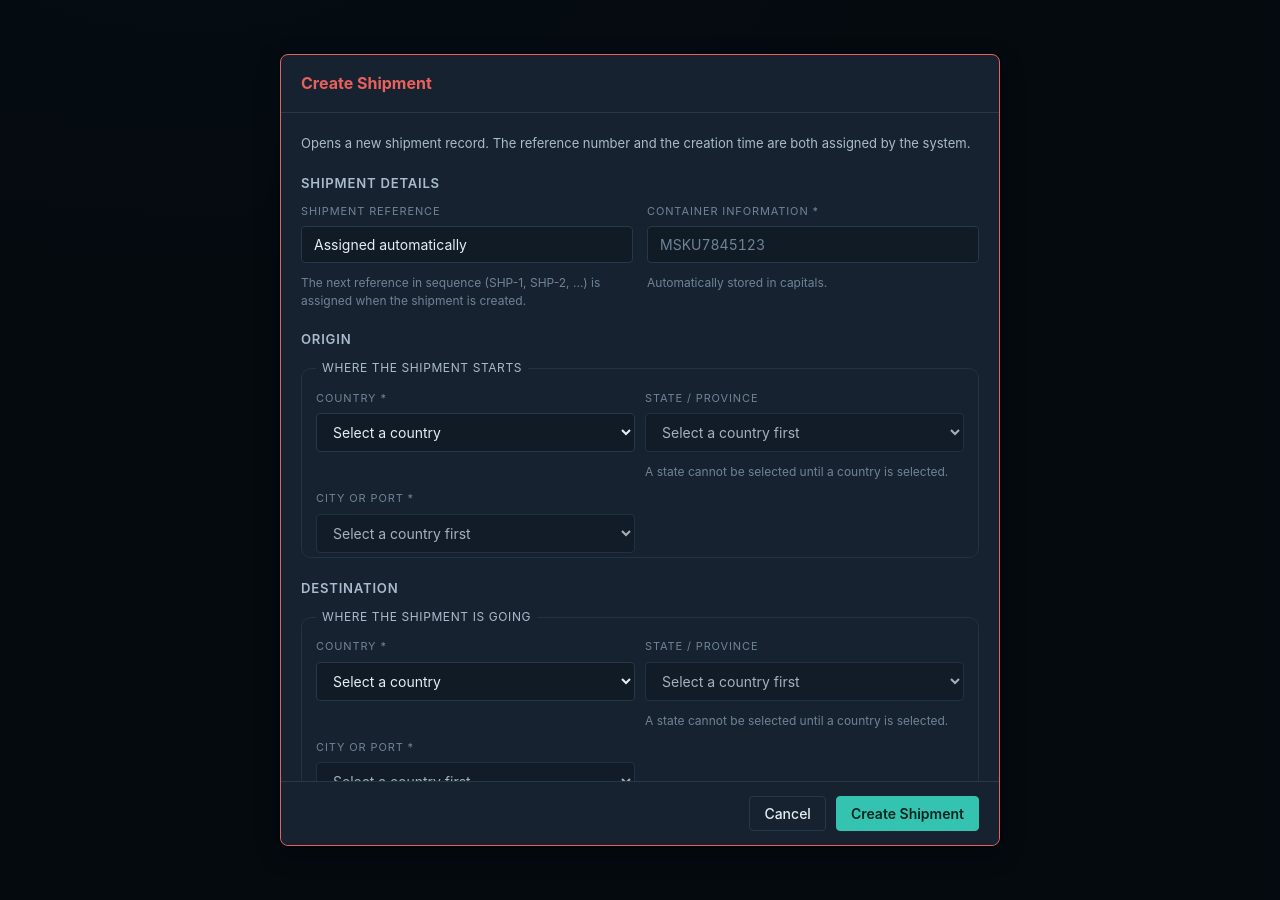
country and state selection › choosing a country enables the state list and offers only its subdivisions
Select "India" in the dropdown with id "origin-country" at (476, 433), box [316,413,635,452]
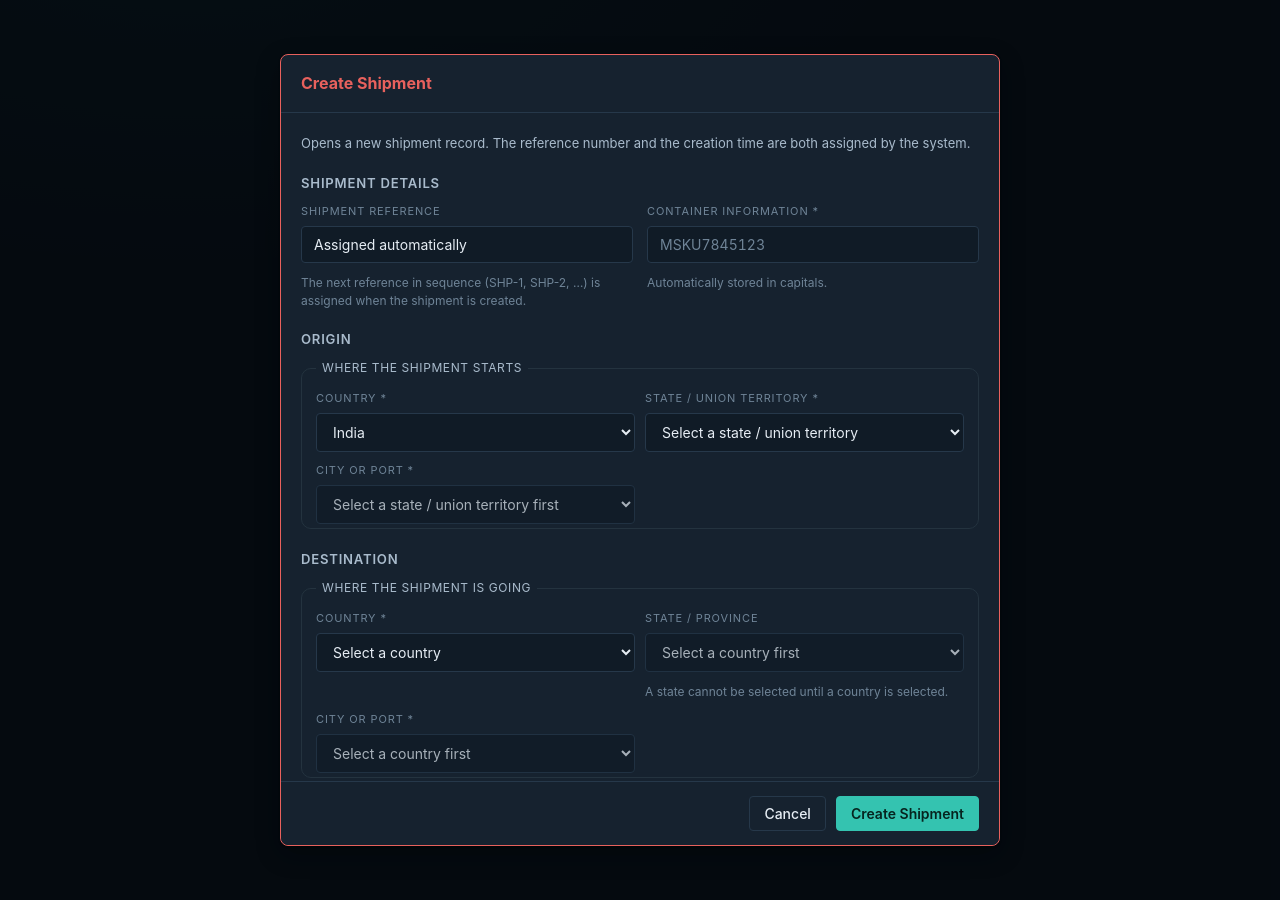
Now the dropdown with id "origin-state" is enabled, box [645,413,964,452]
